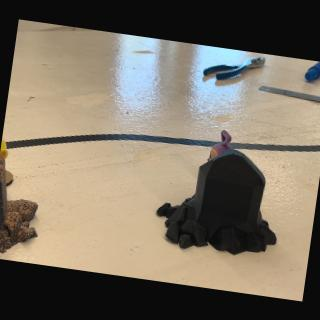teletubby: (207, 130, 231, 161), (0, 138, 7, 159)
